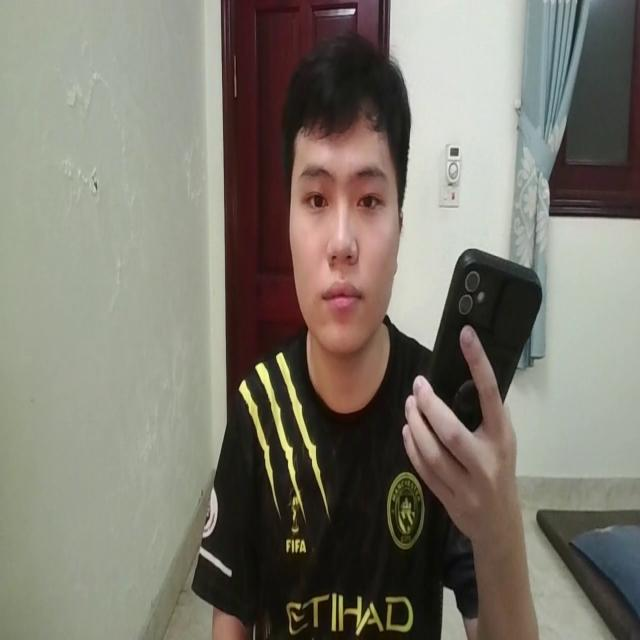phone: (428, 236, 542, 444)
student: (204, 28, 536, 640)
